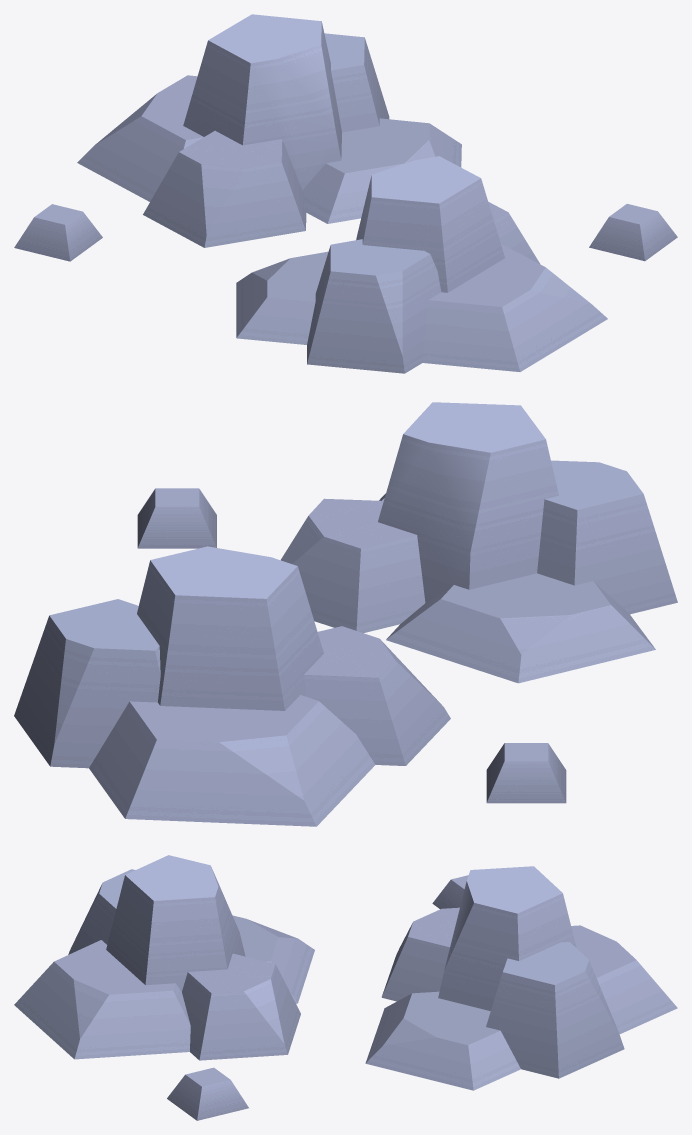
The model's file is hx_stone-rocks.glb.
The picture shows the model from 3 angles, top to bottom: view 1: azimuth 30°, elevation 25°; view 2: azimuth 150°, elevation 25°; view 3: azimuth 270°, elevation 25°; orthographic projection. The views are drawn at different scales.
Bounding box in the file's own units: 0.8173 × 0.2061 × 0.9967.
Materials: 1 (1 with a texture image).
